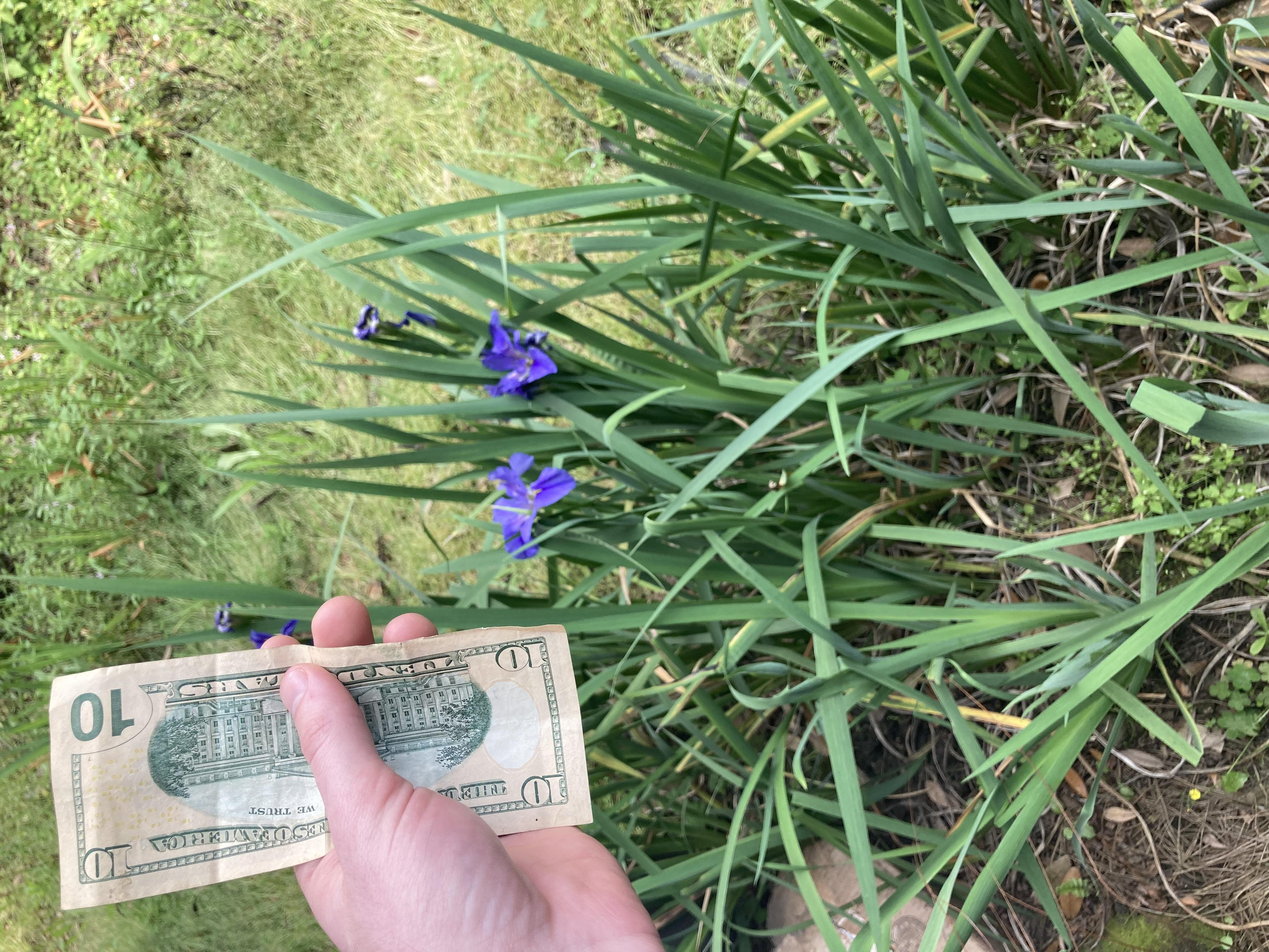ten-back: (52, 36, 446, 445)
